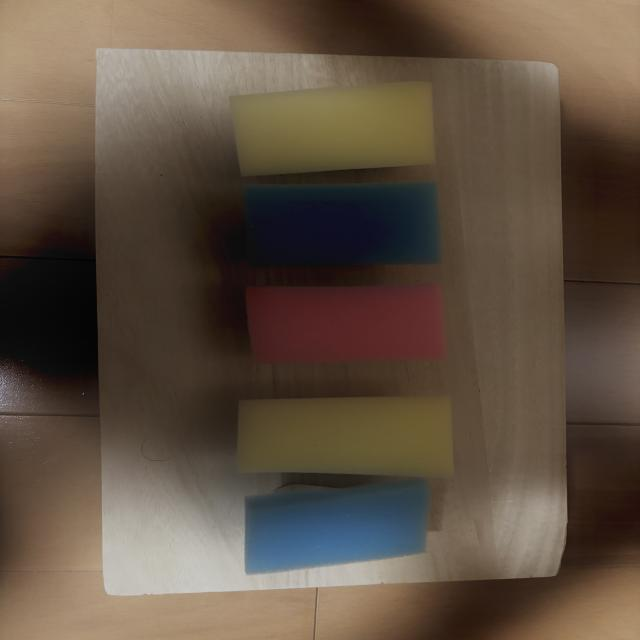ika: (245, 479, 430, 574), (243, 182, 441, 266)
tai: (246, 283, 446, 364)
tamago: (230, 82, 435, 176), (238, 397, 453, 478)
